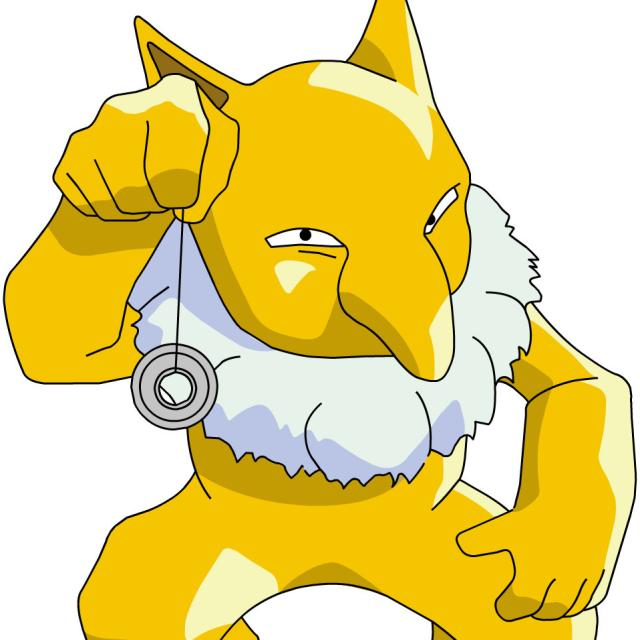Hypno: (3, 4, 633, 640)
